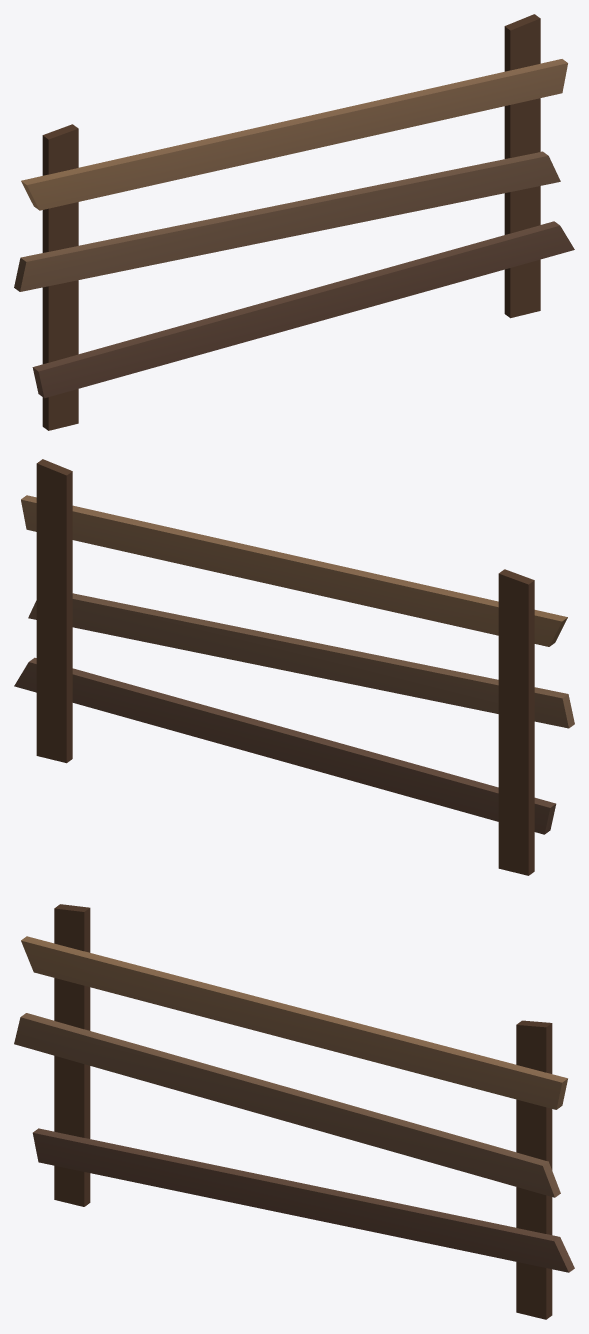
The model's file is Fence Wood V1 1.glb.
3 views of the same model, one above another, from view 1: azimuth 30°, elevation 25°; view 2: azimuth 150°, elevation 25°; view 3: azimuth 330°, elevation 25° (orthographic).
Parts seen in each view (by area): view 1: Fence Wood V1 1; view 2: Fence Wood V1 1; view 3: Fence Wood V1 1.
Boxes of the visible parts, <box> form: Fence Wood V1 1: <box>14,14,574,430</box>; Fence Wood V1 1: <box>14,459,574,875</box>; Fence Wood V1 1: <box>14,904,574,1319</box>.
Size of what is drawn, in the model's own units: 2.99 by 1.52 by 0.1102.
1 material, 1 textured.
